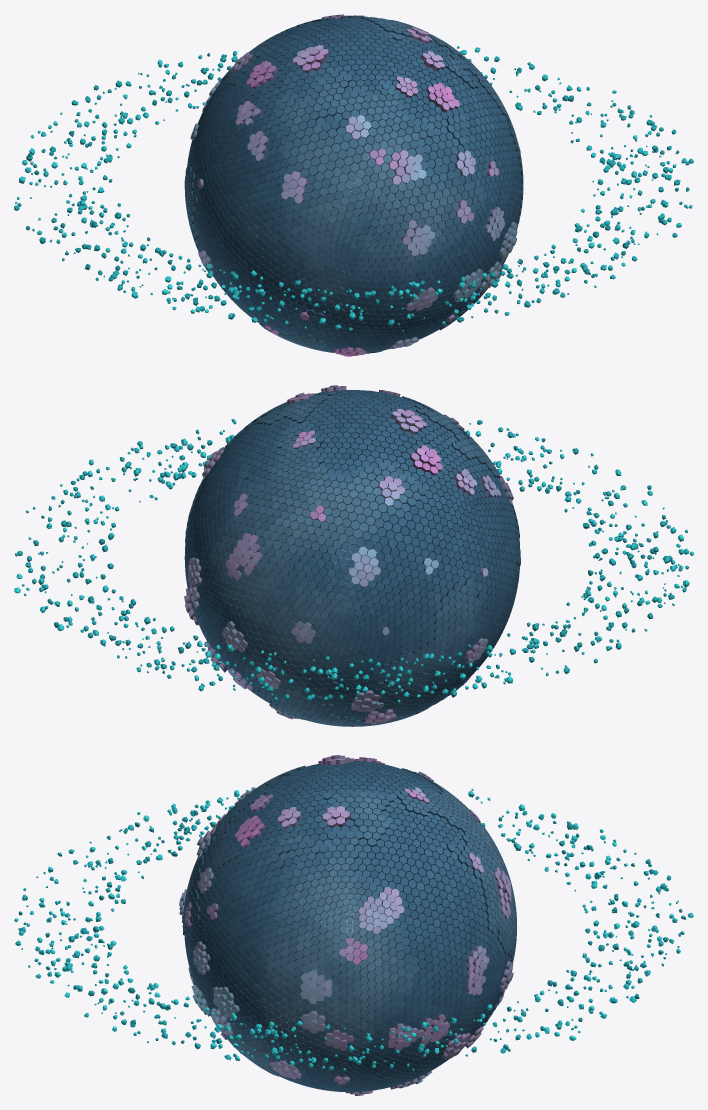
The model's file is crystal_1.glb.
The picture shows the model from 3 angles, top to bottom: view 1: azimuth 30°, elevation 25°; view 2: azimuth 150°, elevation 25°; view 3: azimuth 270°, elevation 25°; orthographic projection.
Parts seen in each view (by area): view 1: crystal_1, crystal_1_rings; view 2: crystal_1, crystal_1_rings; view 3: crystal_1, crystal_1_rings.
Boxes of the visible parts, bbox=[...] form: crystal_1: bbox=[184, 14, 523, 356]; crystal_1_rings: bbox=[14, 46, 693, 331]; crystal_1: bbox=[184, 385, 520, 726]; crystal_1_rings: bbox=[14, 419, 693, 705]; crystal_1: bbox=[179, 755, 517, 1095]; crystal_1_rings: bbox=[14, 787, 693, 1071].
Size of the model in its own units: 4.08 by 2.03 by 4.14.
